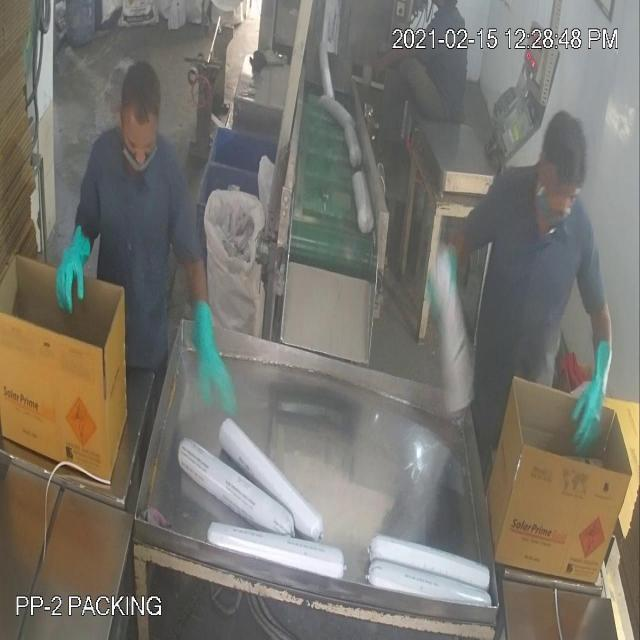Gloves: (61, 58, 592, 390)
